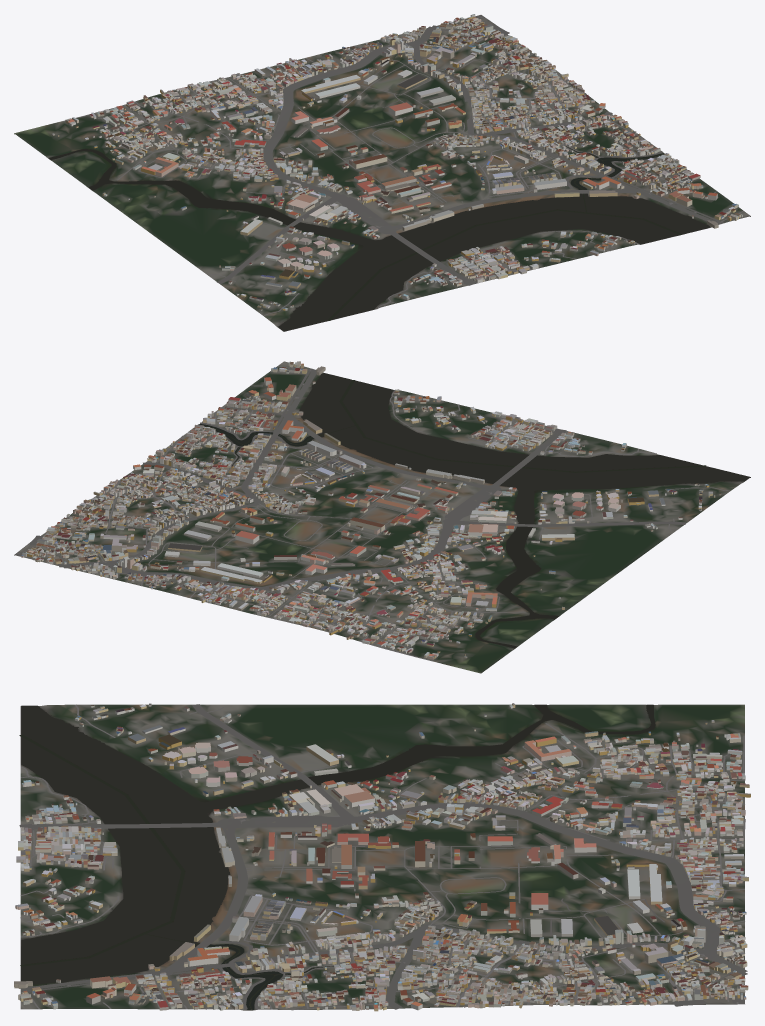
3 views of the same model, one above another, from view 1: azimuth 30°, elevation 25°; view 2: azimuth 150°, elevation 25°; view 3: azimuth 270°, elevation 25° (orthographic). The views are drawn at different scales.
Visible parts, largest first — view 1: ground, buildings, water, roads; view 2: ground, buildings, water, roads; view 3: ground, buildings, water, roads.
Part boxes in pixels (left/top/right/bottom): ground: left=14, top=18, right=750, bottom=331; buildings: left=51, top=14, right=742, bottom=310; water: left=48, top=145, right=710, bottom=331; roads: left=62, top=15, right=743, bottom=315; ground: left=14, top=361, right=750, bottom=673; buildings: left=21, top=361, right=721, bottom=659; water: left=198, top=373, right=749, bottom=648; roads: left=14, top=366, right=730, bottom=661; ground: left=20, top=704, right=744, bottom=1010; buildings: left=14, top=703, right=750, bottom=1011; water: left=19, top=704, right=655, bottom=1009; roads: left=19, top=704, right=747, bottom=1010.
Size of the model in its own units: 1413 by 44.76 by 1425.
